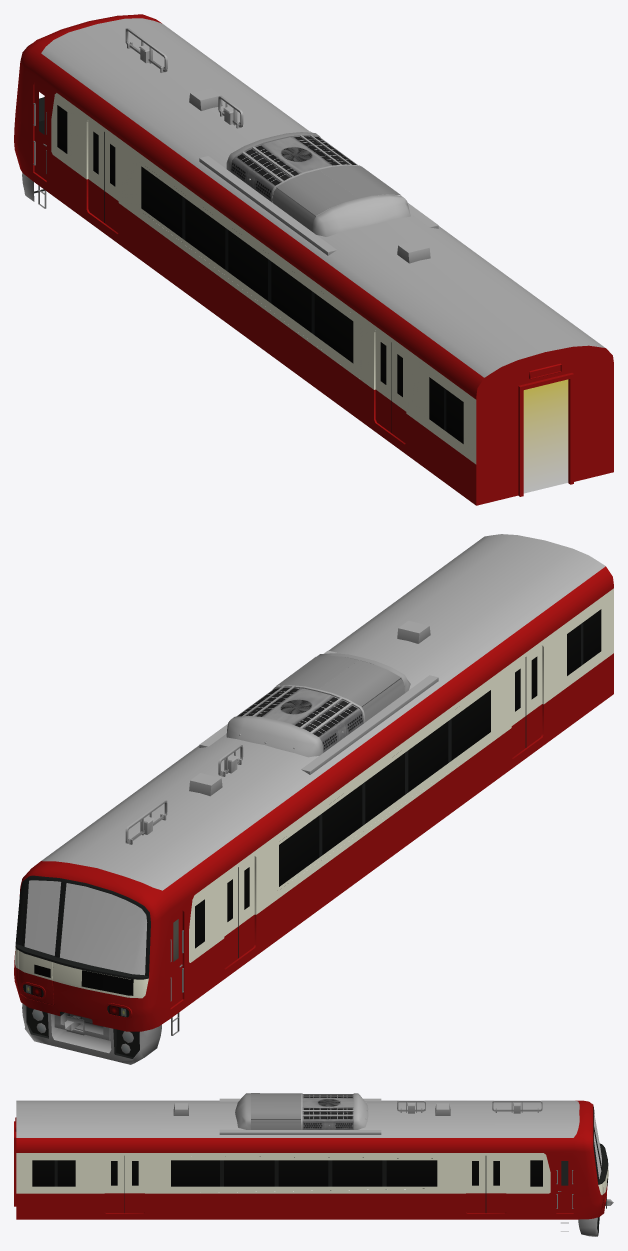
The picture shows the model from 3 angles, top to bottom: view 1: azimuth 30°, elevation 25°; view 2: azimuth 150°, elevation 25°; view 3: azimuth 270°, elevation 25°; orthographic projection. The views are drawn at different scales.
Parts seen in each view (by area): view 1: obj10; view 2: obj10; view 3: obj10.
Boxes of the visible parts, x1,y1,x2,y2 form: obj10: (14,14,613,505); obj10: (14,534,613,1064); obj10: (14,1093,613,1236).
Size of the model in its own units: 6.5 by 8.69 by 39.05.
21 materials, 20 textured.
